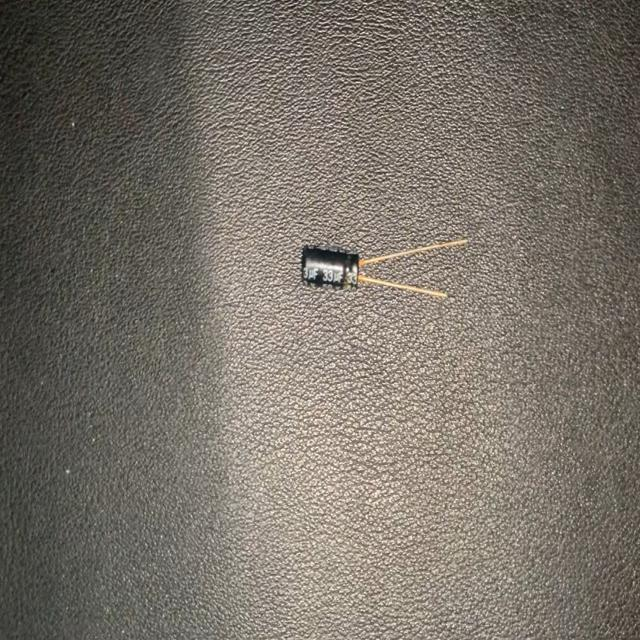capacitor: (300, 236, 472, 302)
rust: (348, 250, 367, 289)
